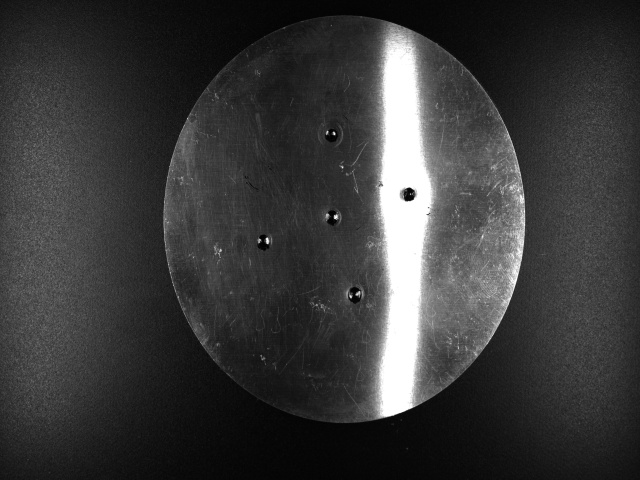zhen_kong: (316, 122, 344, 148), (396, 183, 423, 205), (253, 232, 278, 254), (345, 281, 363, 307), (322, 206, 342, 228)
